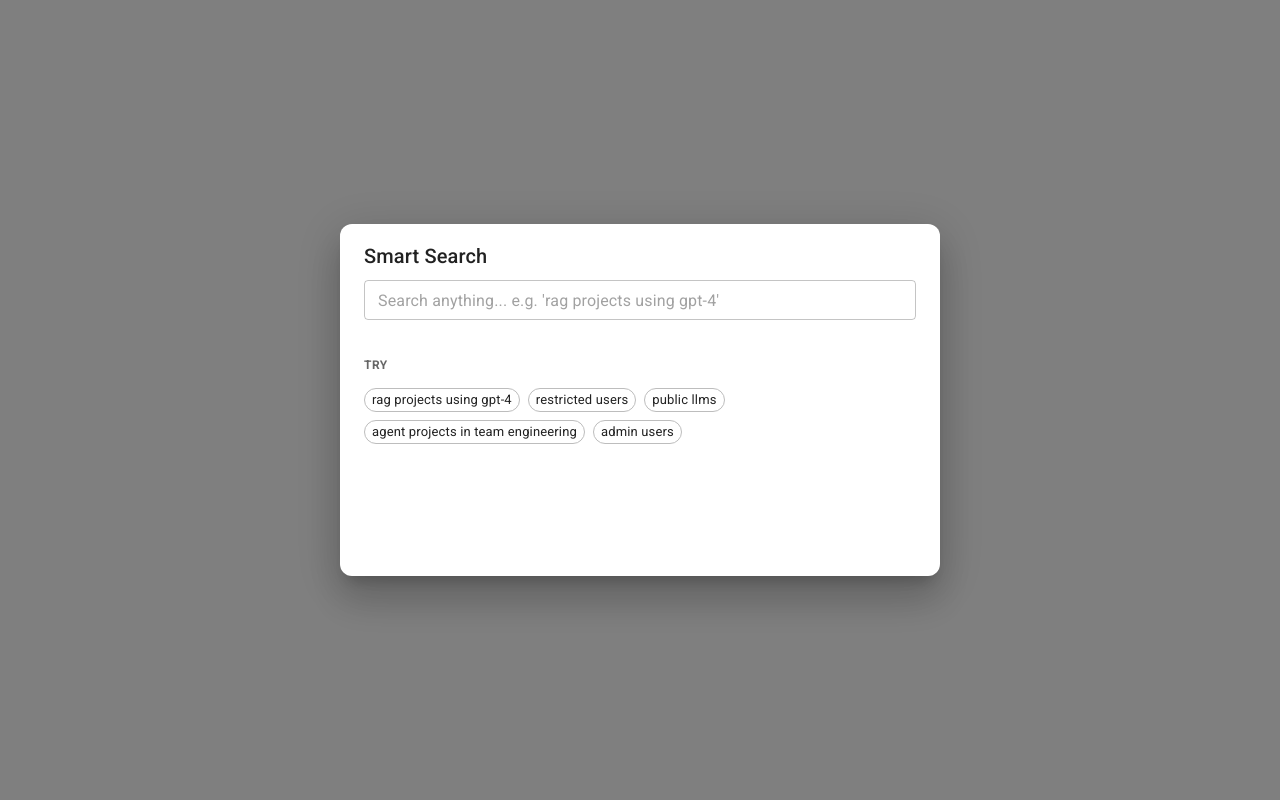
Test: SmartSearch › renders the structured-query header, note and warnings
Step 1. Type "rag projects using gpt" into the field with placeholder "Search anything... e.g. 'rag projects using gpt-4'" → coordinates (640, 300), box [364,280,916,320]
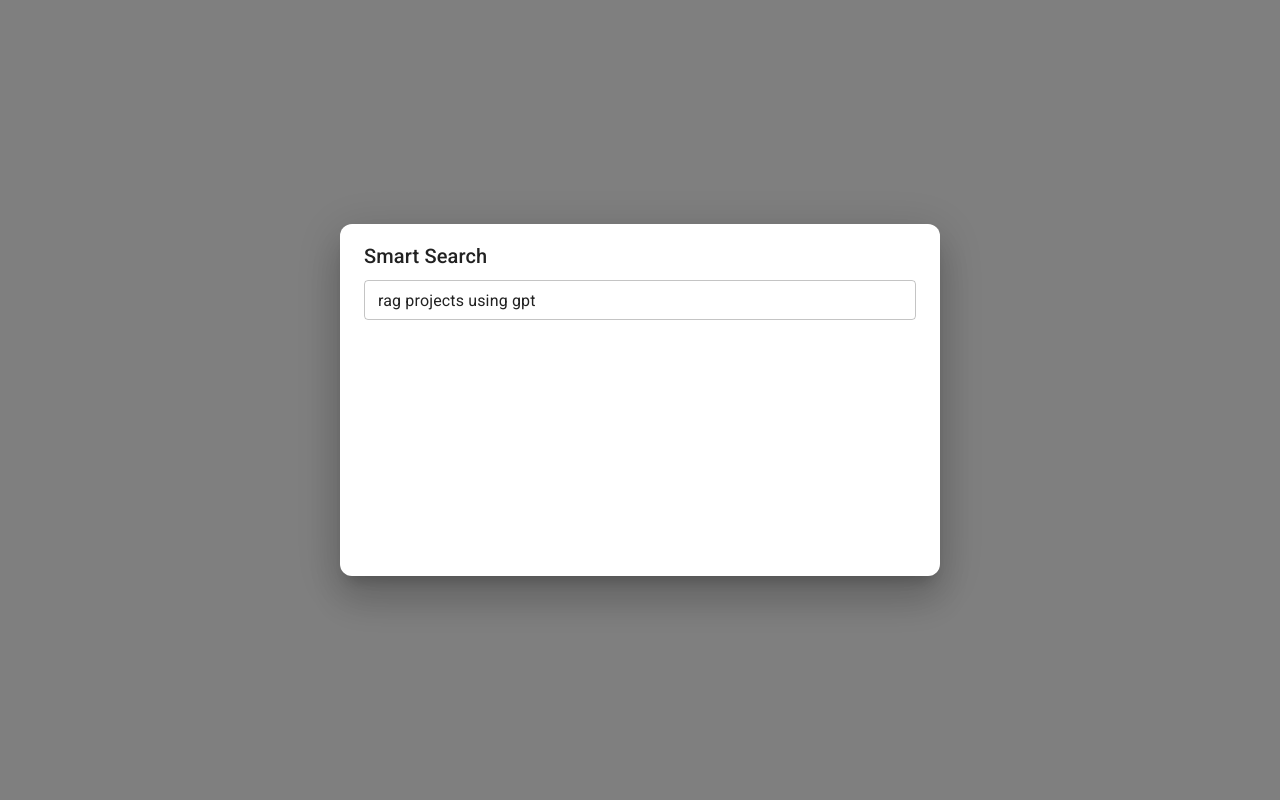
Step 2. Press Enter in the field with placeholder "Search anything... e.g. 'rag projects using gpt-4'", box [364,280,916,320]
Wait 800 ms
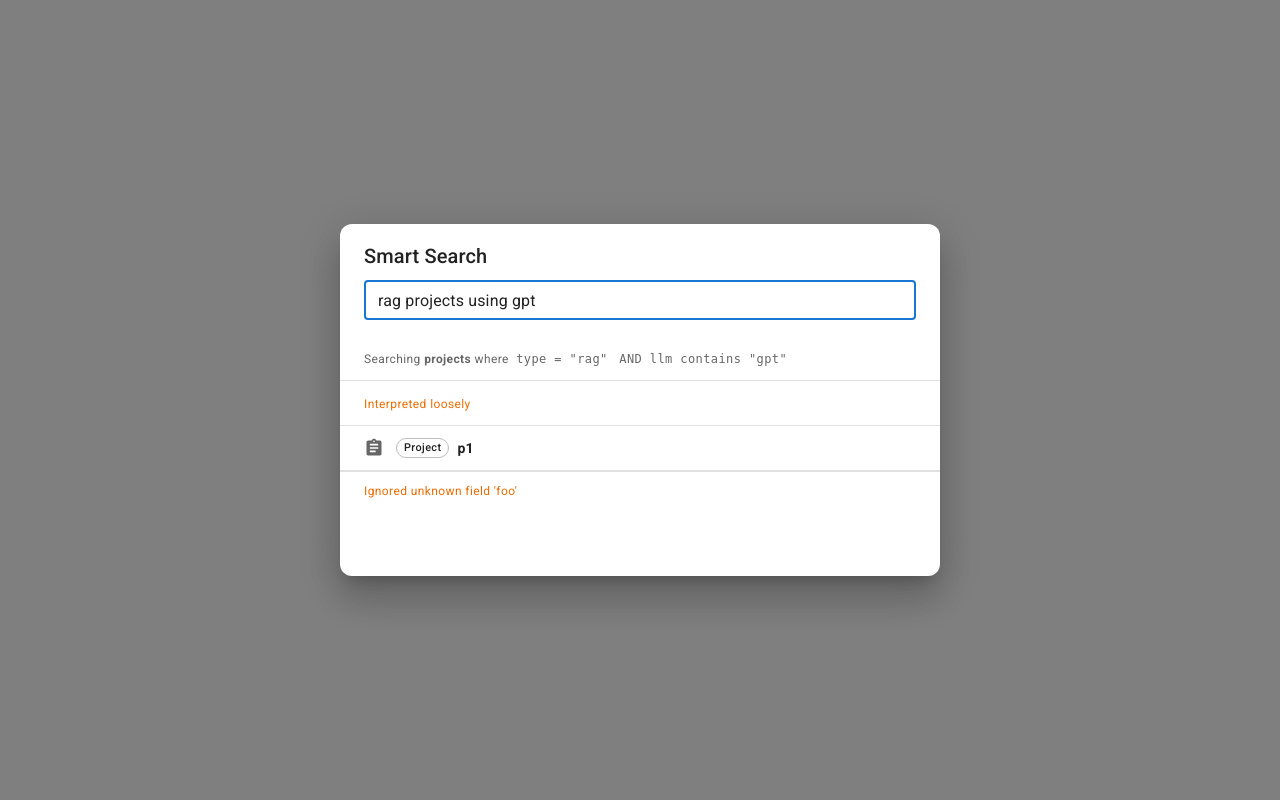
Expected: the text "projects" is shown, [424,352,471,366]
Expected: the text "type = \"rag\"" is shown, [516,352,608,366]
Expected: the text "AND llm contains \"gpt\"" is shown, [612,352,787,366]
